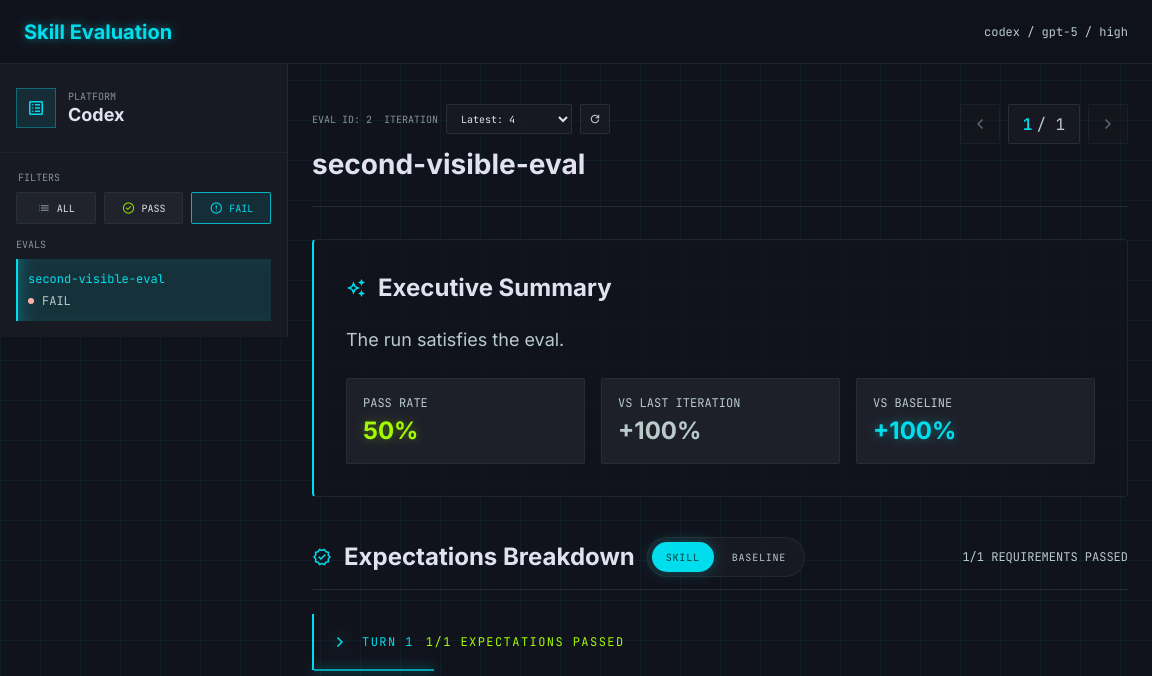
saves before advancing through the visible eval queue
Click the button "all" at (56, 208), box [16,192,96,224]
(page scrolled)
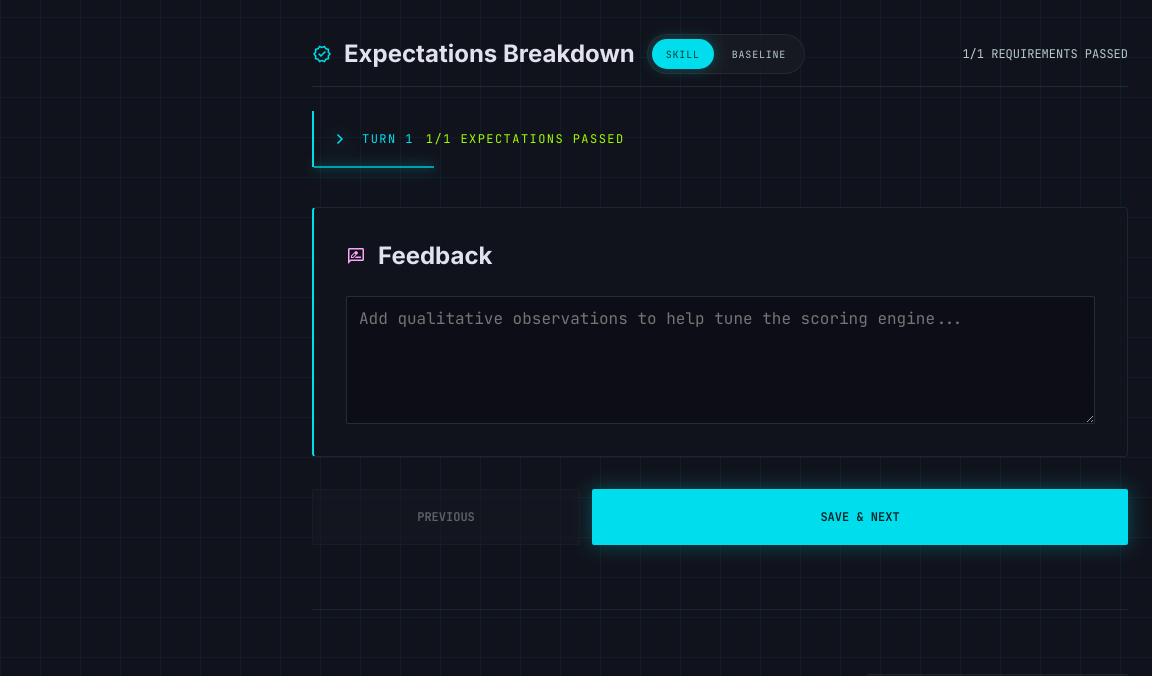
Replace the text in the text box named "Review comments" with "Move through the queue." at (720, 360), box [346,296,1095,424]
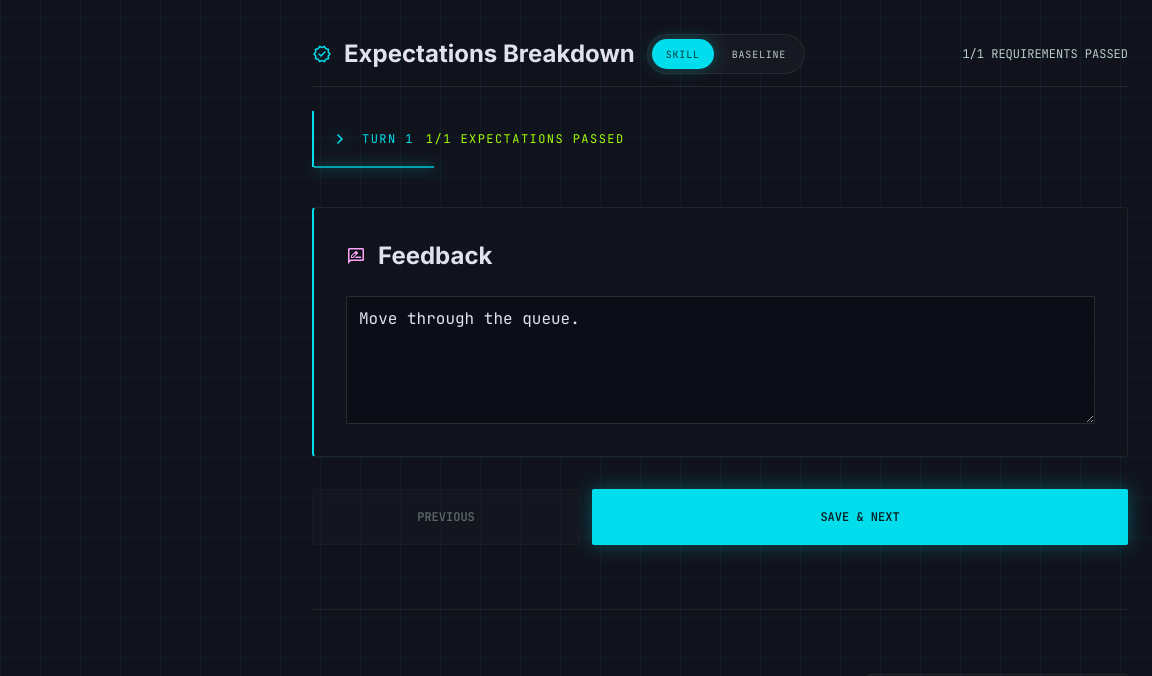
Click the button "Save & Next" at (860, 517), box [592,489,1128,545]
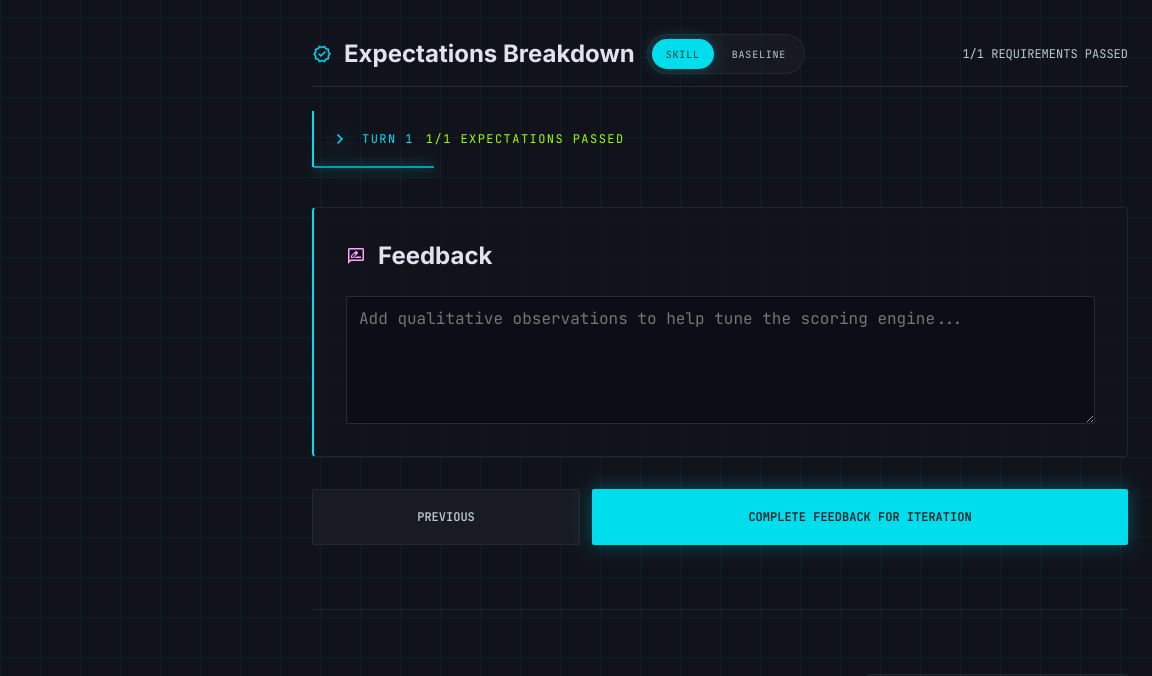
Expected: the button "Complete feedback for iteration" is shown, [592,489,1128,545]
